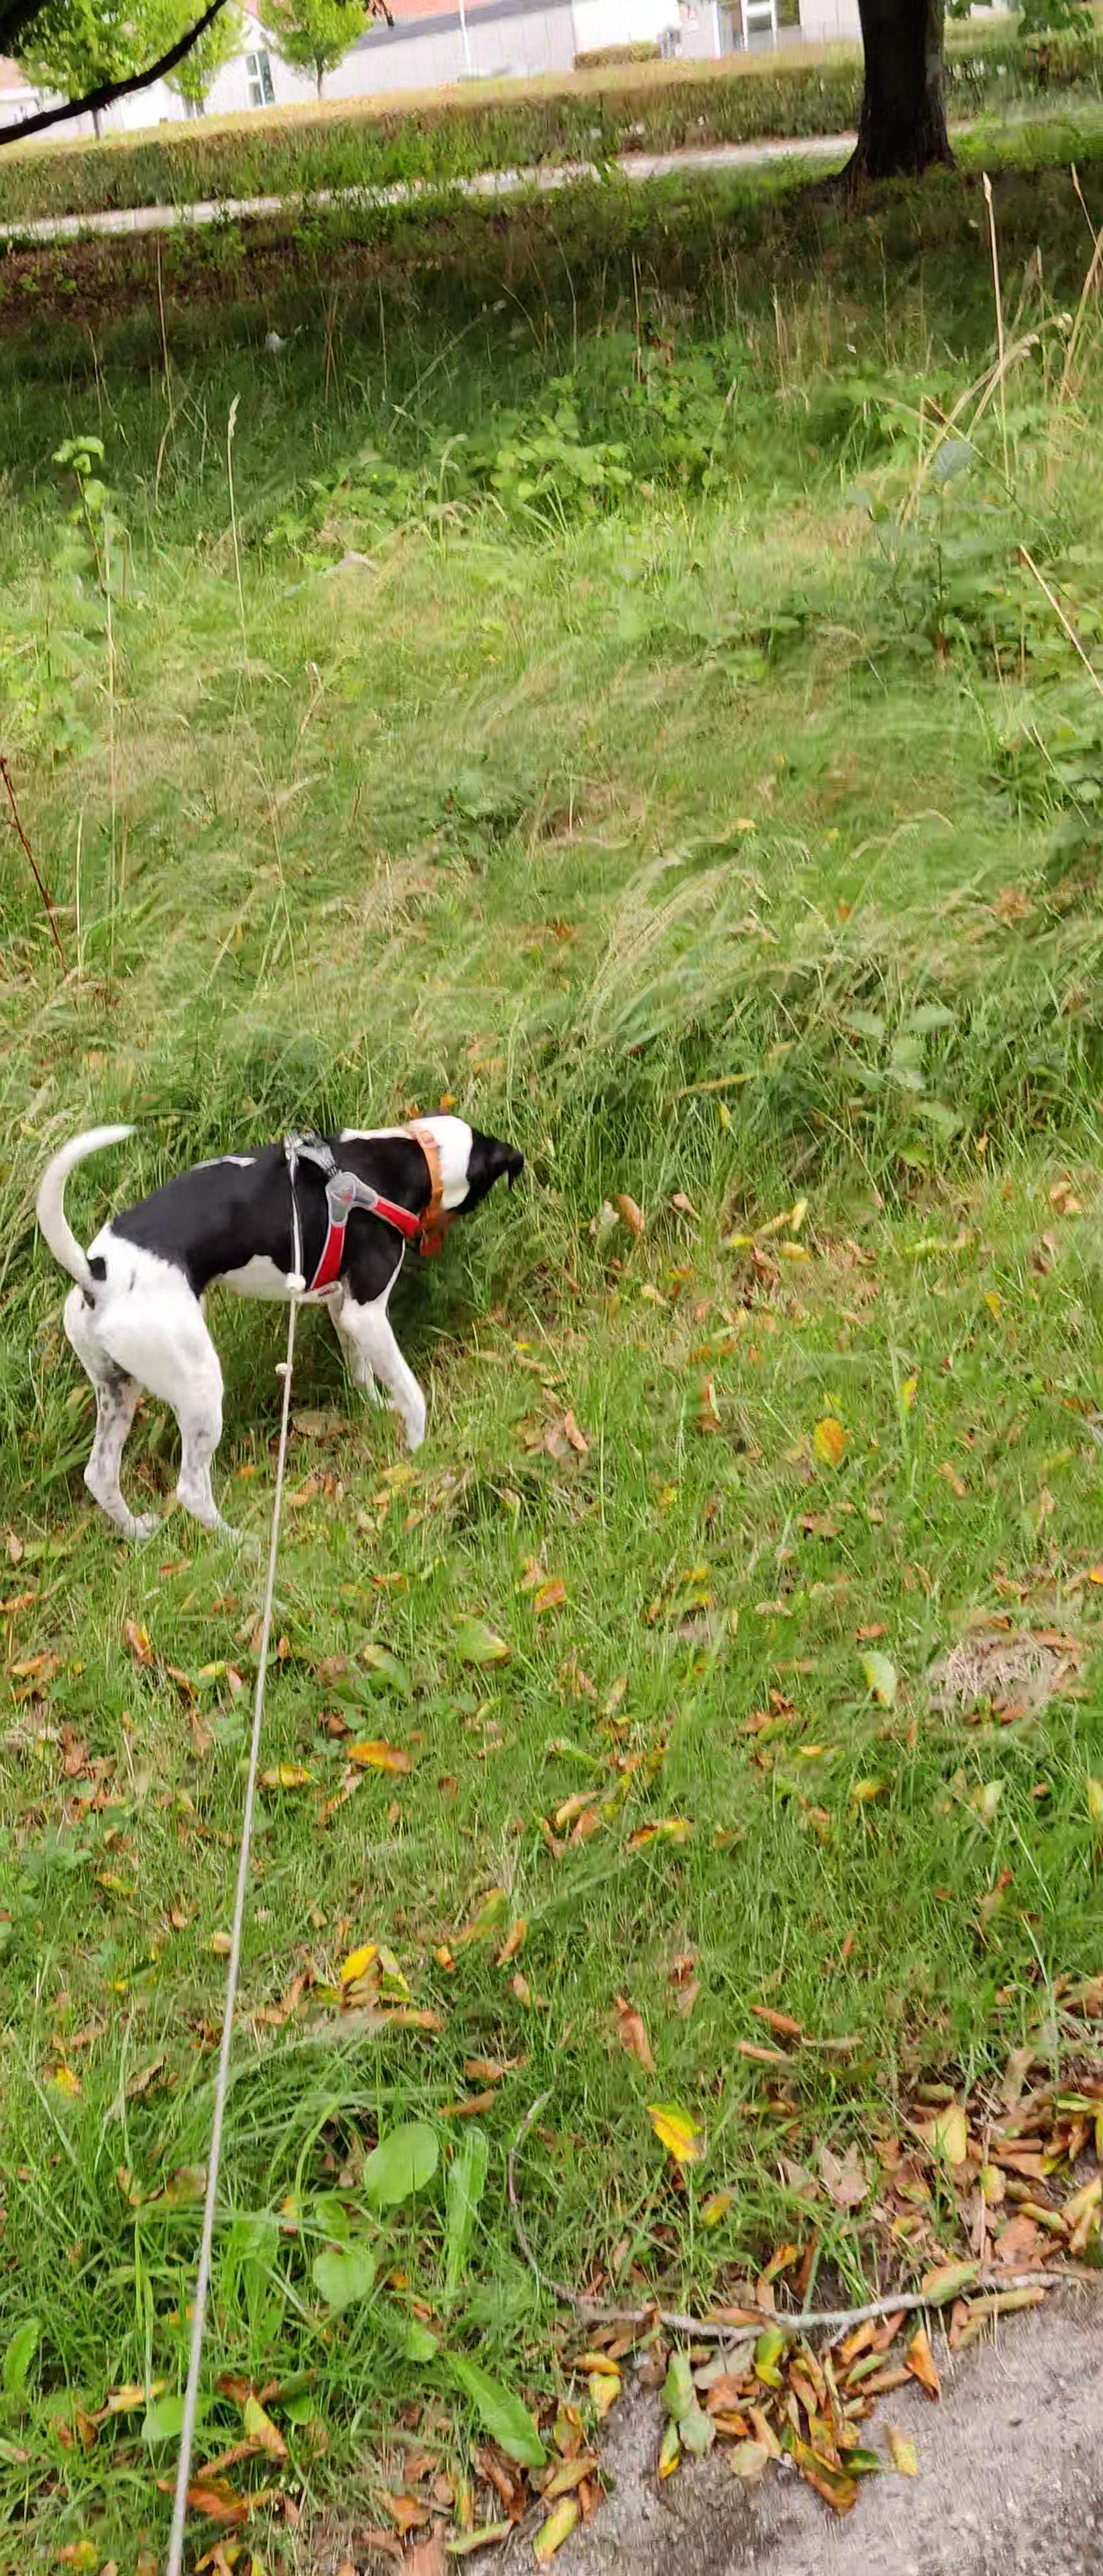Dog: (16, 1078, 544, 1569)
